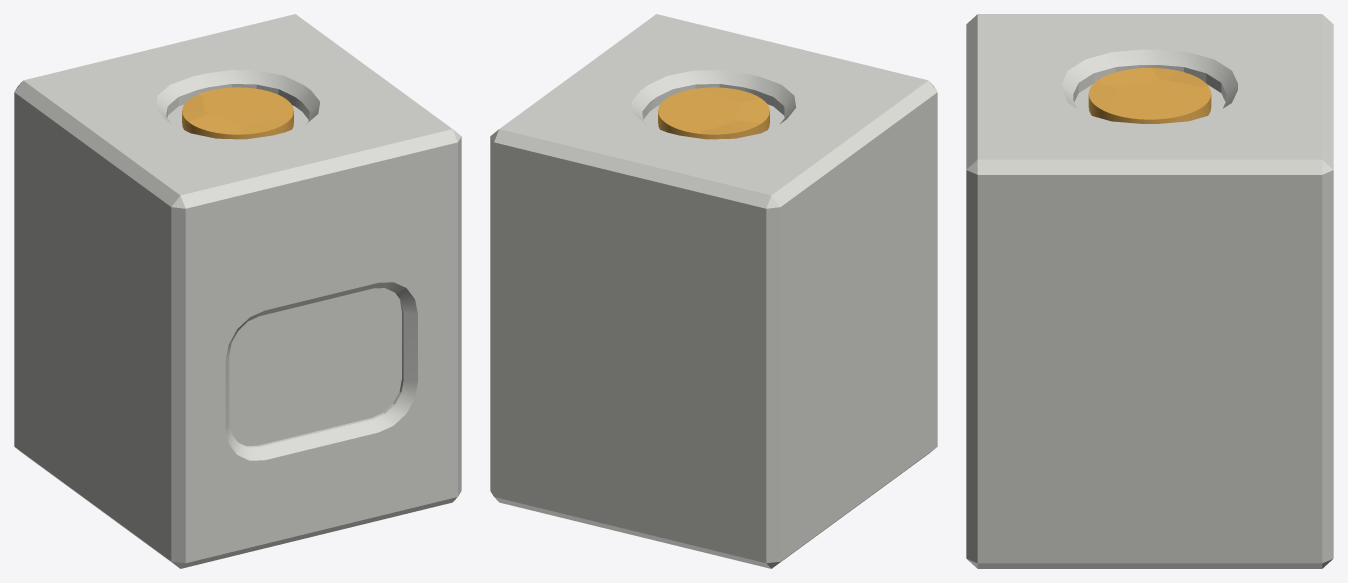
File: ax_util_22_radiation_monitor.glb
3 renders of one model, left to right at view 1: azimuth 30°, elevation 25°; view 2: azimuth 150°, elevation 25°; view 3: azimuth 270°, elevation 25°, orthographic. The views are drawn at different scales.
Parts seen in each view (by area): view 1: housing, detector_stack; view 2: housing, detector_stack; view 3: housing, detector_stack.
Boxes of the visible parts, box(x1,y1,x2,y2) form: housing: box(14, 14, 461, 568); detector_stack: box(182, 87, 293, 139); housing: box(490, 14, 937, 568); detector_stack: box(658, 87, 769, 139); housing: box(966, 14, 1333, 568); detector_stack: box(1088, 68, 1211, 123).
Size of the model in its own units: 0.48 by 0.59 by 0.48.
Materials: 2 (1 with a texture image).
